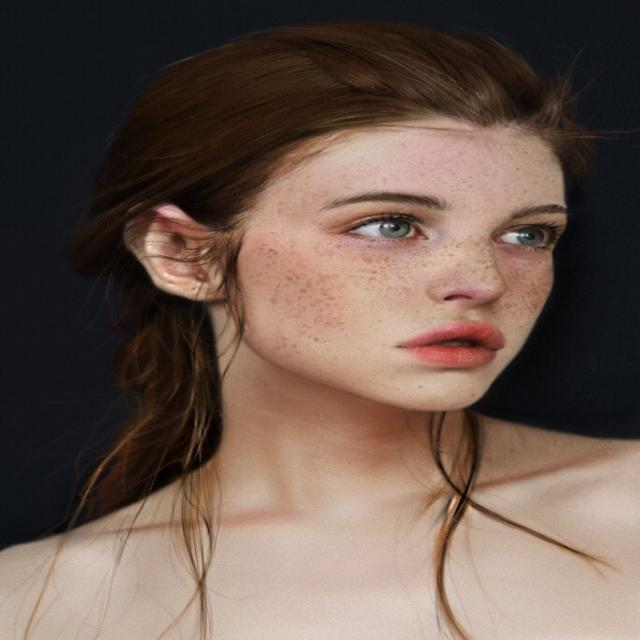earlobe: (177, 275, 222, 304)
eye: (336, 213, 430, 241), (492, 224, 554, 249)
nose: (432, 293, 510, 322)
wholeear: (119, 200, 222, 303)
